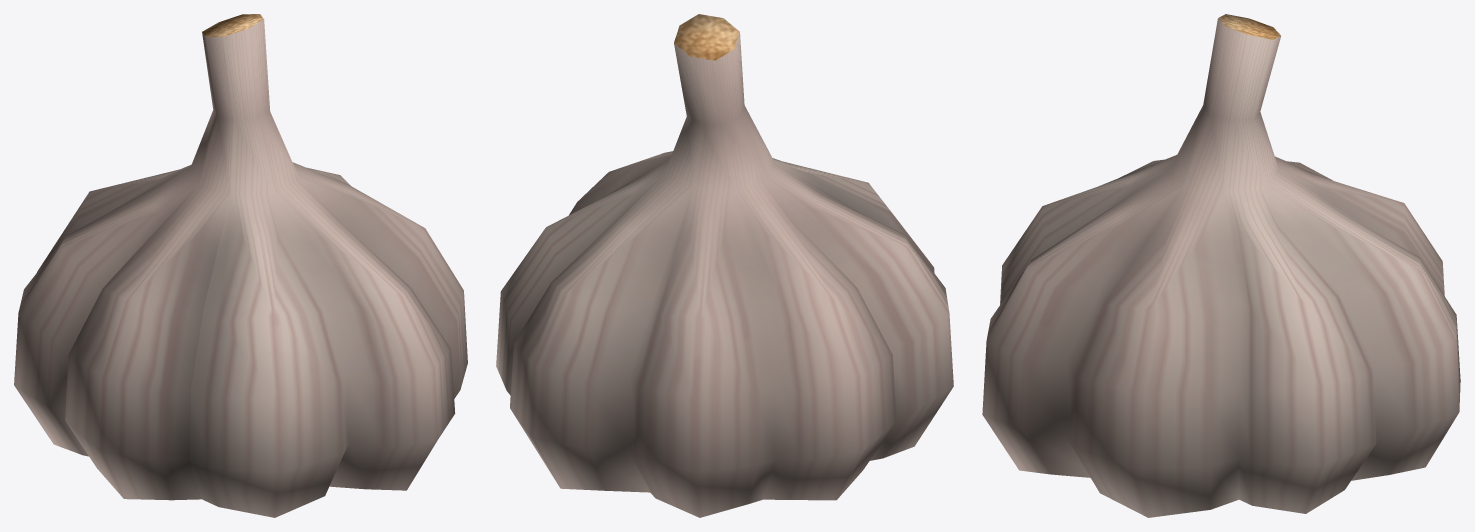
The model's file is garlic.fbx.
3 views of the same model, side by side, from view 1: azimuth 30°, elevation 25°; view 2: azimuth 150°, elevation 25°; view 3: azimuth 270°, elevation 25° (orthographic). The views are drawn at different scales.
Visible parts, largest first — view 1: Cube; view 2: Cube; view 3: Cube.
Part boxes in pixels (box(x1,y1,x2,y2)): Cube: box(14, 14, 467, 517); Cube: box(496, 14, 953, 517); Cube: box(982, 14, 1460, 517).
Bounding box in the file's own units: 223 × 255 × 241.
